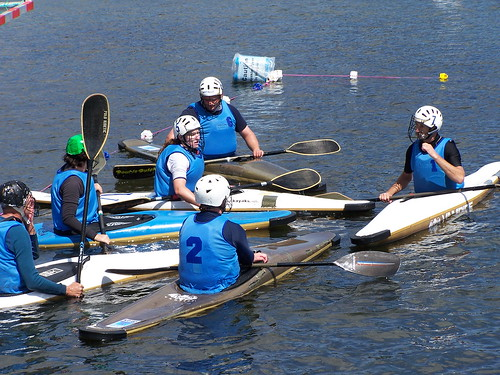helmet: (192, 174, 233, 210), (406, 101, 442, 138), (0, 175, 27, 212), (169, 111, 203, 135), (194, 71, 221, 92)
